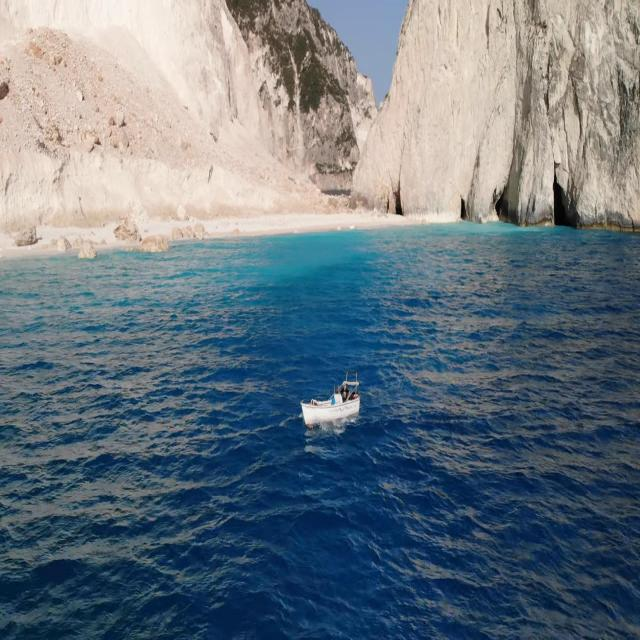boat: (304, 374, 362, 437)
